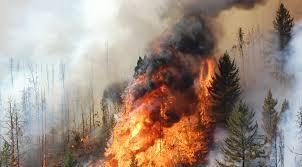fire: (102, 48, 213, 167)
